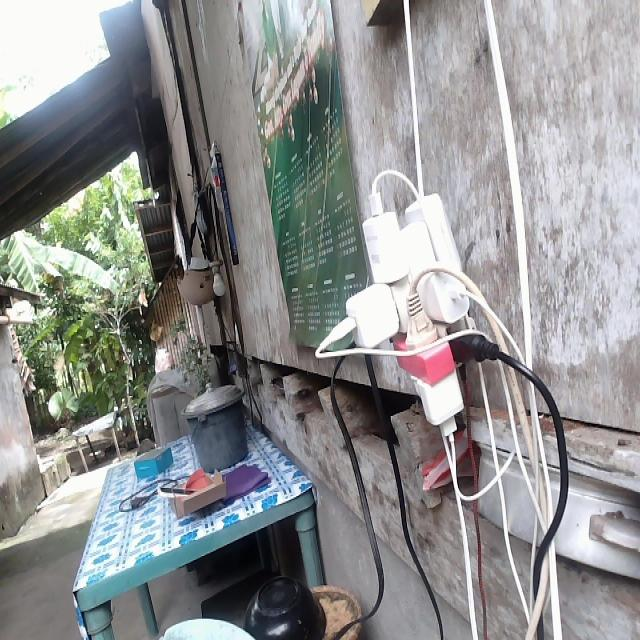-: (322, 178, 500, 450)
